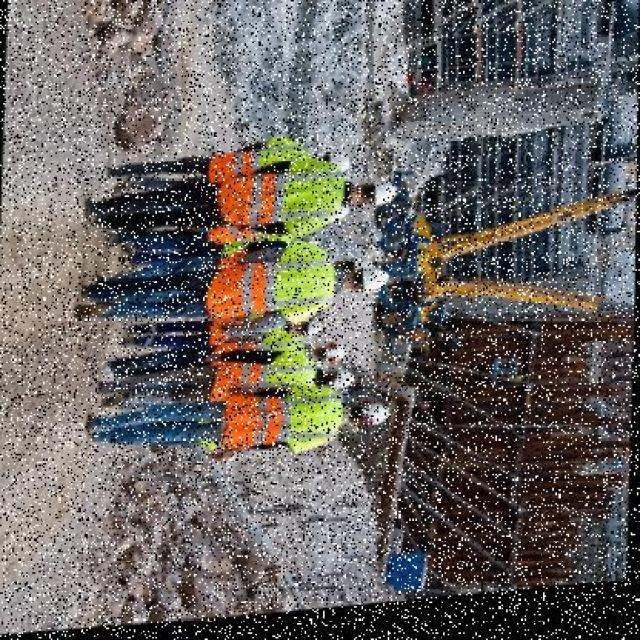helmet: (357, 271, 391, 298), (371, 186, 401, 213), (362, 406, 390, 431)
vest: (212, 174, 346, 238), (210, 260, 329, 326), (220, 398, 342, 454), (211, 357, 313, 399)
